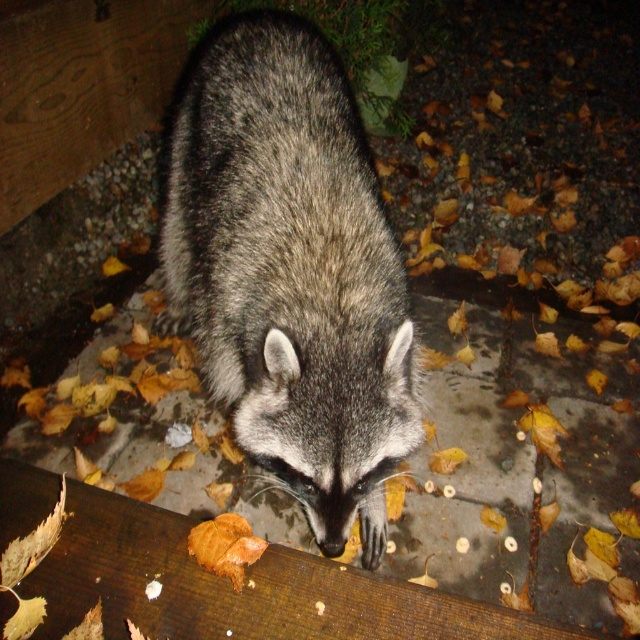Raccoon: (152, 12, 435, 572)
